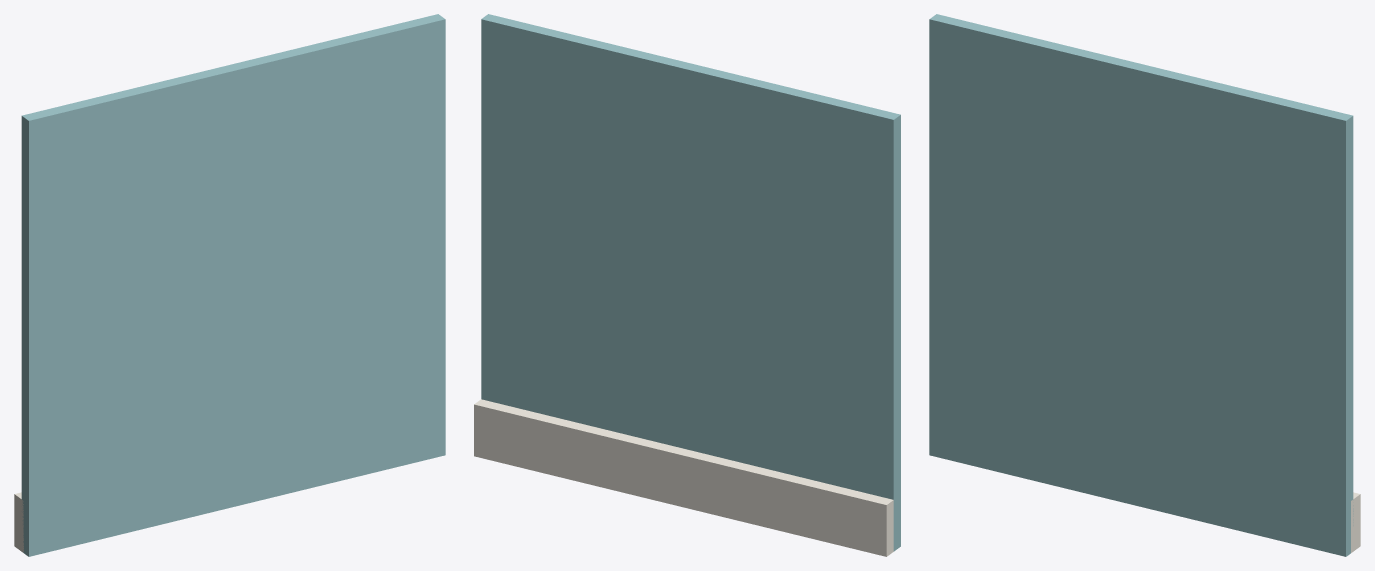
Rendered from water-edge.glb.
3 renders of one model, left to right at view 1: azimuth 30°, elevation 25°; view 2: azimuth 150°, elevation 25°; view 3: azimuth 330°, elevation 25°, orthographic.
Visible parts, largest first — view 1: water-edge; view 2: water-edge; view 3: water-edge.
Part boxes in pixels (box(x1,y1,x2,y2)): water-edge: box(14, 14, 445, 556); water-edge: box(474, 14, 900, 556); water-edge: box(929, 14, 1360, 556).
Size of the model in its own units: 2 by 2 by 0.12.
